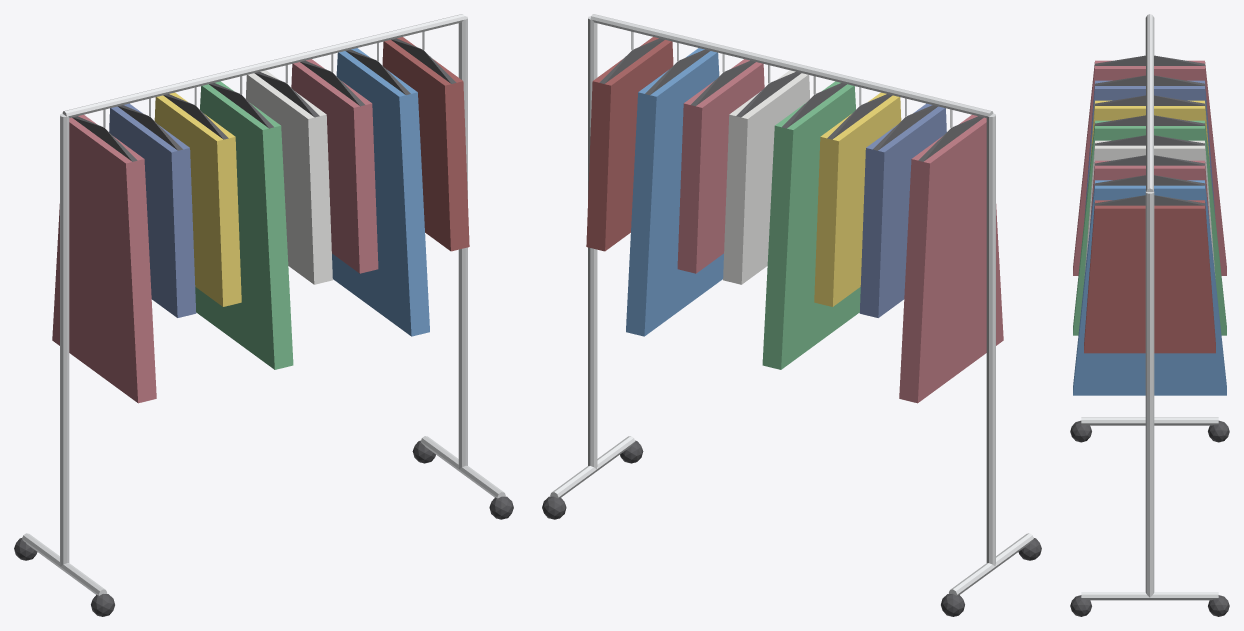
The model's file is clothes_rack.glb.
3 renders of one model, left to right at view 1: azimuth 30°, elevation 25°; view 2: azimuth 150°, elevation 25°; view 3: azimuth 270°, elevation 25°, orthographic. The views are drawn at different scales.
Parts seen in each view (by area): view 1: clothes_rack_fabric, clothes_rack_flag_g, clothes_rack_flag_b, clothes_rack_chrome, clothes_rack_flag_y, clothes_rack_fabric2, clothes_rack_vinyl, clothes_rack_paint_w, clothes_rack_dark, clothes_rack_rubber; view 2: clothes_rack_fabric, clothes_rack_flag_g, clothes_rack_flag_b, clothes_rack_chrome, clothes_rack_flag_y, clothes_rack_fabric2, clothes_rack_vinyl, clothes_rack_paint_w, clothes_rack_dark, clothes_rack_rubber; view 3: clothes_rack_vinyl, clothes_rack_flag_b, clothes_rack_chrome, clothes_rack_dark, clothes_rack_fabric, clothes_rack_flag_g, clothes_rack_paint_w, clothes_rack_fabric2, clothes_rack_flag_y, clothes_rack_rubber.
Boxes of the visible parts, bbox=[...] form: clothes_rack_fabric: bbox=[52, 59, 378, 403]; clothes_rack_flag_g: bbox=[195, 81, 293, 369]; clothes_rack_flag_b: bbox=[332, 48, 429, 336]; clothes_rack_chrome: bbox=[22, 14, 505, 595]; clothes_rack_flag_y: bbox=[154, 92, 241, 306]; clothes_rack_fabric2: bbox=[109, 103, 196, 317]; clothes_rack_vinyl: bbox=[382, 37, 469, 251]; clothes_rack_paint_w: bbox=[246, 70, 332, 284]; clothes_rack_dark: bbox=[72, 38, 456, 161]; clothes_rack_rubber: bbox=[14, 440, 513, 616]; clothes_rack_fabric: bbox=[677, 59, 1003, 403]; clothes_rack_flag_g: bbox=[762, 81, 860, 369]; clothes_rack_flag_b: bbox=[626, 48, 723, 336]; clothes_rack_chrome: bbox=[550, 14, 1033, 595]; clothes_rack_flag_y: bbox=[814, 92, 901, 306]; clothes_rack_fabric2: bbox=[859, 103, 946, 317]; clothes_rack_vinyl: bbox=[586, 37, 673, 251]; clothes_rack_paint_w: bbox=[723, 70, 809, 284]; clothes_rack_dark: bbox=[599, 38, 983, 161]; clothes_rack_rubber: bbox=[542, 440, 1041, 616]; clothes_rack_vinyl: bbox=[1084, 200, 1215, 353]; clothes_rack_flag_b: bbox=[1073, 180, 1226, 395]; clothes_rack_chrome: bbox=[1081, 14, 1218, 600]; clothes_rack_dark: bbox=[1095, 55, 1204, 205]; clothes_rack_fabric: bbox=[1073, 60, 1226, 275]; clothes_rack_flag_g: bbox=[1073, 120, 1226, 335]; clothes_rack_paint_w: bbox=[1084, 140, 1215, 278]; clothes_rack_fabric2: bbox=[1084, 80, 1215, 218]; clothes_rack_flag_y: bbox=[1089, 100, 1210, 168]; clothes_rack_rubber: bbox=[1070, 420, 1229, 616].
Bounding box in the file's own units: 1.58 × 1.71 × 0.58.
